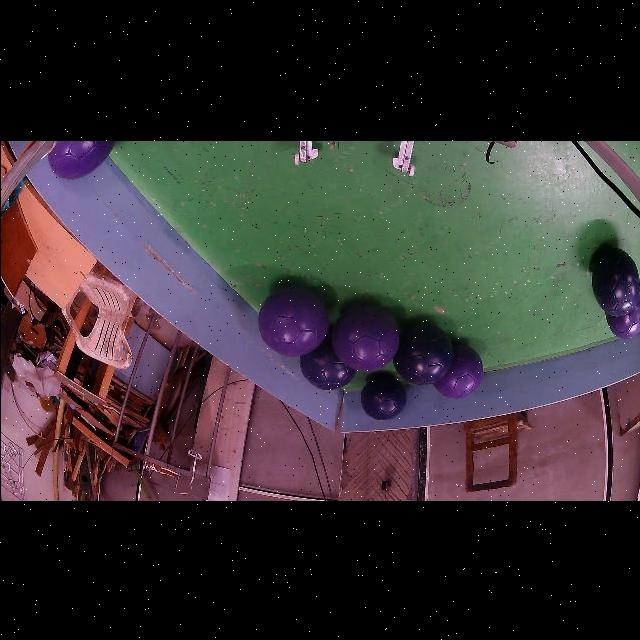B: (392, 324, 452, 384), (299, 330, 355, 389), (591, 248, 639, 315), (360, 374, 406, 419)
P: (258, 285, 328, 355), (331, 304, 399, 370), (432, 342, 482, 398), (48, 140, 114, 179), (605, 294, 640, 339)
